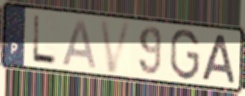9: (137, 24, 163, 77)
A: (60, 18, 99, 71), (200, 32, 238, 86)
G: (169, 28, 201, 82)
L: (30, 12, 58, 67)
V: (98, 18, 135, 75)
